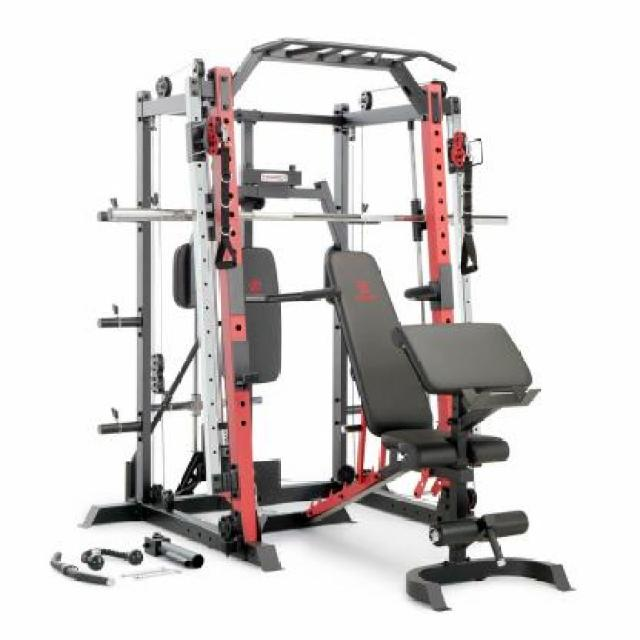smith machine: (83, 37, 511, 574)
